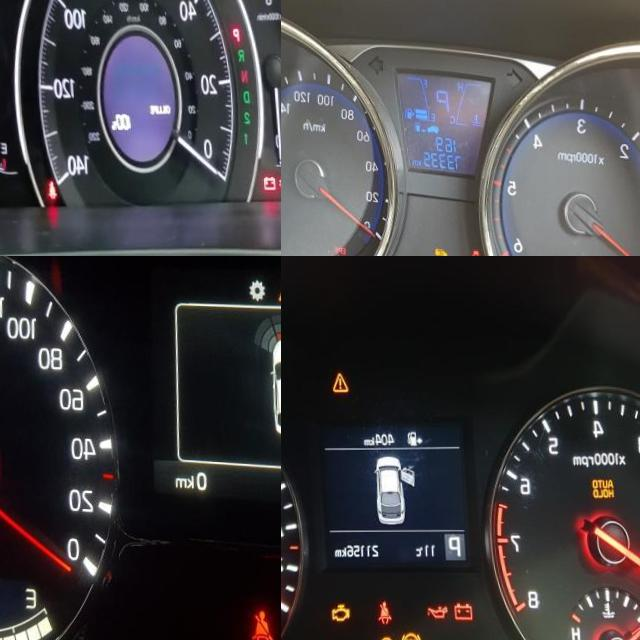Central Warning lamp: (330, 371, 348, 393), (275, 280, 281, 302)
Doors: (465, 248, 477, 256)
